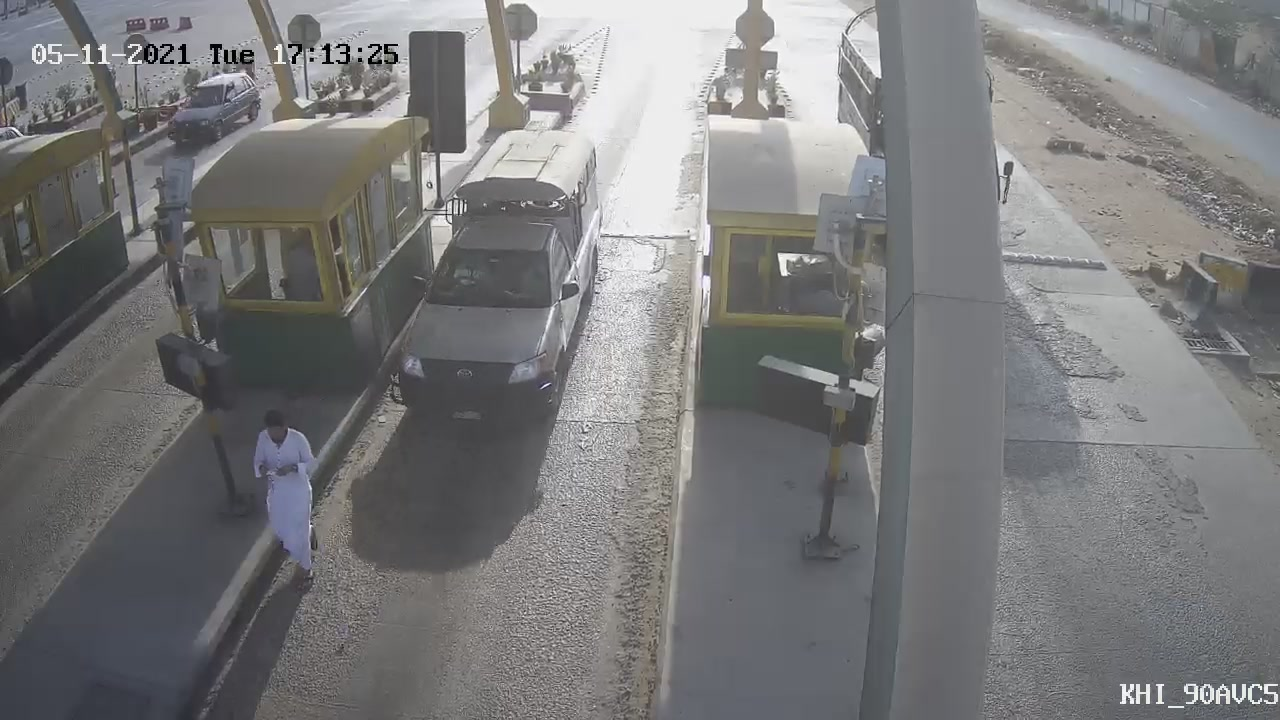F1: (372, 109, 621, 449)
